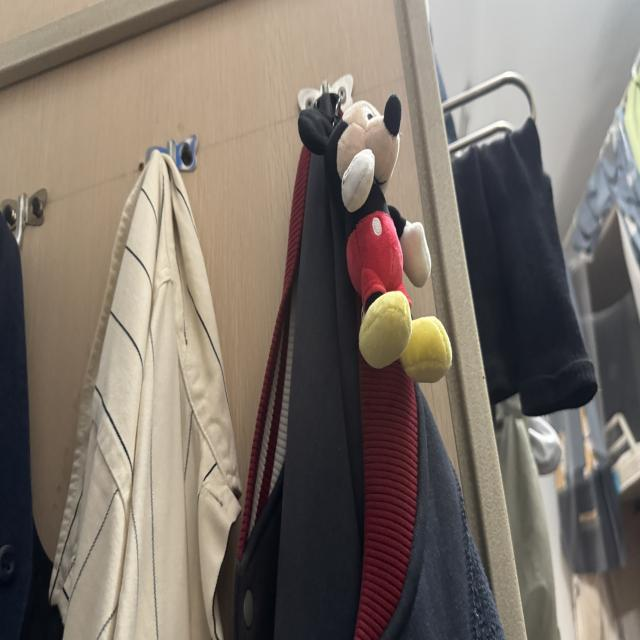mickey: (299, 95, 451, 382)
